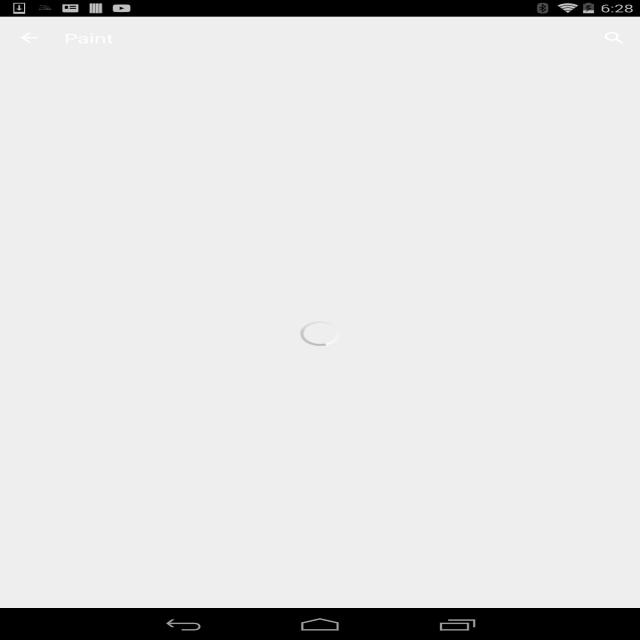button: (12, 27, 51, 48), (592, 29, 634, 48)
heading: (64, 29, 119, 47)
